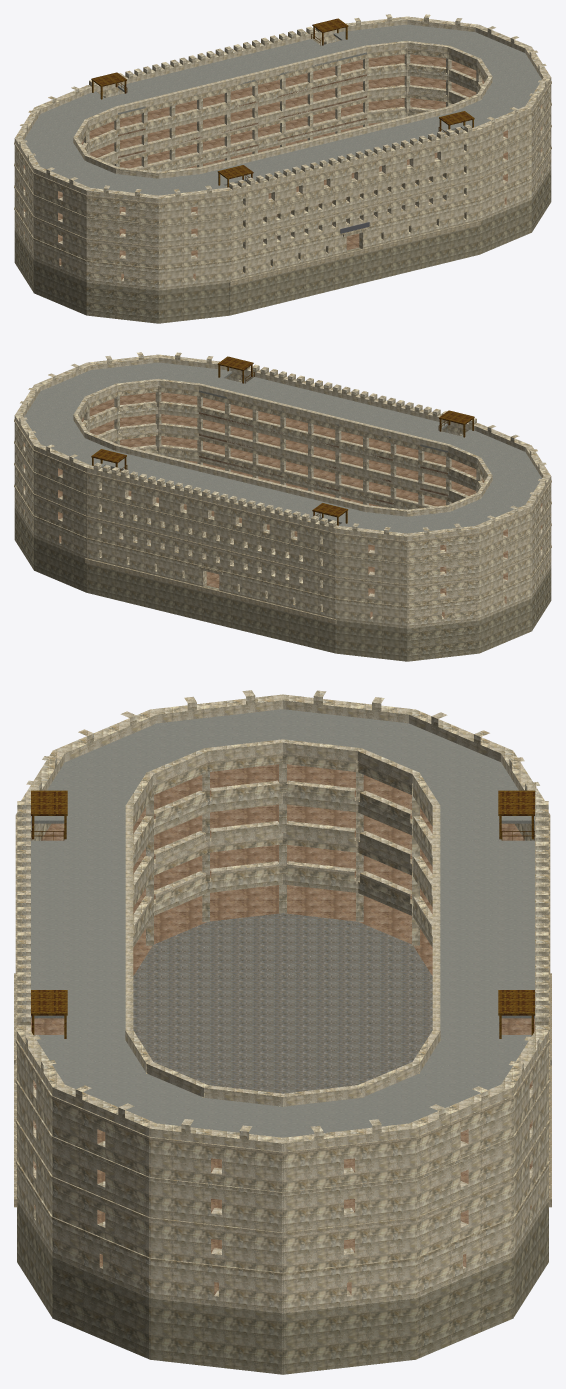
File: bw-keep.zfix-v5.lod1.glb
3 views of the same model, one above another, from view 1: azimuth 30°, elevation 25°; view 2: azimuth 150°, elevation 25°; view 3: azimuth 270°, elevation 25° (orthographic). The views are drawn at different scales.
Visible parts, largest first — view 1: bw-keep; view 2: bw-keep; view 3: bw-keep.
Part boxes in pixels (box(x1,y1,x2,y2)): bw-keep: box(14, 14, 551, 323); bw-keep: box(14, 352, 551, 661); bw-keep: box(14, 690, 551, 1374).
Size of the model in its own units: 110 by 28.35 by 55.7.
7 materials, 6 textured.
